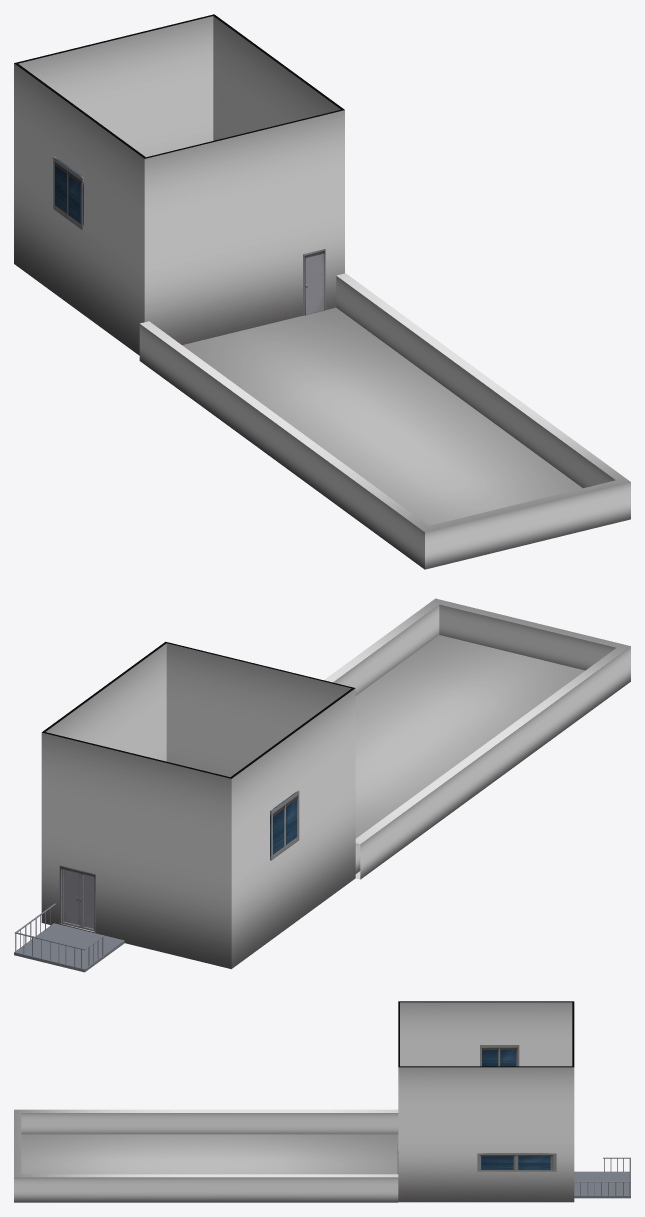
Rendered from soulbrain_T6-3-5F.glb.
3 renders of one model, top to bottom at view 1: azimuth 30°, elevation 25°; view 2: azimuth 150°, elevation 25°; view 3: azimuth 270°, elevation 25°, orthographic. The views are drawn at different scales.
Parts seen in each view (by area): view 1: Box224, T6-3-5F, Box222; view 2: Box224, T6-3-5F; view 3: T6-3-5F, Box224.
Part boxes in pixels (x1,y1,x2,y2): Box224: (14, 14, 344, 355); T6-3-5F: (53, 156, 630, 569); Box222: (303, 249, 325, 315); Box224: (41, 641, 355, 969); T6-3-5F: (14, 598, 630, 972); T6-3-5F: (14, 1045, 630, 1202); Box224: (398, 1001, 574, 1202).
Size of the model in its own units: 8.1 by 7.52 by 31.09.
Materials: 8 (7 with a texture image).
